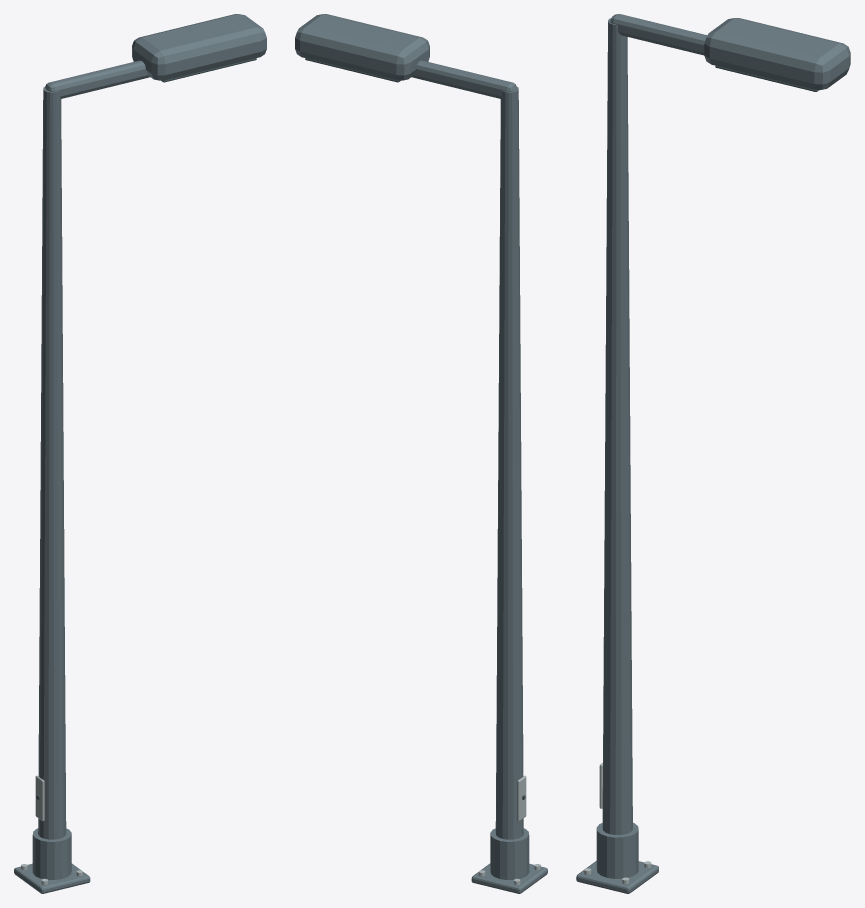
File: SIMUS_Streetlight_6m.fbx
The picture shows the model from 3 angles, left to right: view 1: azimuth 30°, elevation 25°; view 2: azimuth 150°, elevation 25°; view 3: azimuth 330°, elevation 25°; orthographic projection. The views are drawn at different scales.
Visible parts, largest first — view 1: Tapered pole, Luminaire housing, Horizontal arm, Foot collar, Mounting plate; view 2: Tapered pole, Luminaire housing, Horizontal arm, Foot collar, Mounting plate; view 3: Tapered pole, Luminaire housing, Foot collar, Horizontal arm, Mounting plate.
Boxes of the visible parts, box(x1,y1,x2,y2) form: Tapered pole: box(38, 86, 66, 839); Luminaire housing: box(132, 14, 266, 80); Horizontal arm: box(45, 60, 150, 98); Foot collar: box(32, 828, 71, 879); Mounting plate: box(14, 863, 90, 893); Tapered pole: box(495, 86, 523, 839); Luminaire housing: box(295, 14, 429, 80); Horizontal arm: box(411, 60, 516, 98); Foot collar: box(490, 828, 529, 879); Mounting plate: box(471, 863, 547, 893); Tapered pole: box(602, 18, 632, 834); Luminaire housing: box(704, 18, 850, 90); Foot collar: box(596, 822, 638, 878); Horizontal arm: box(610, 14, 707, 55); Mounting plate: box(576, 861, 658, 893).
Bounding box in the file's own units: 176 × 594 × 38.
